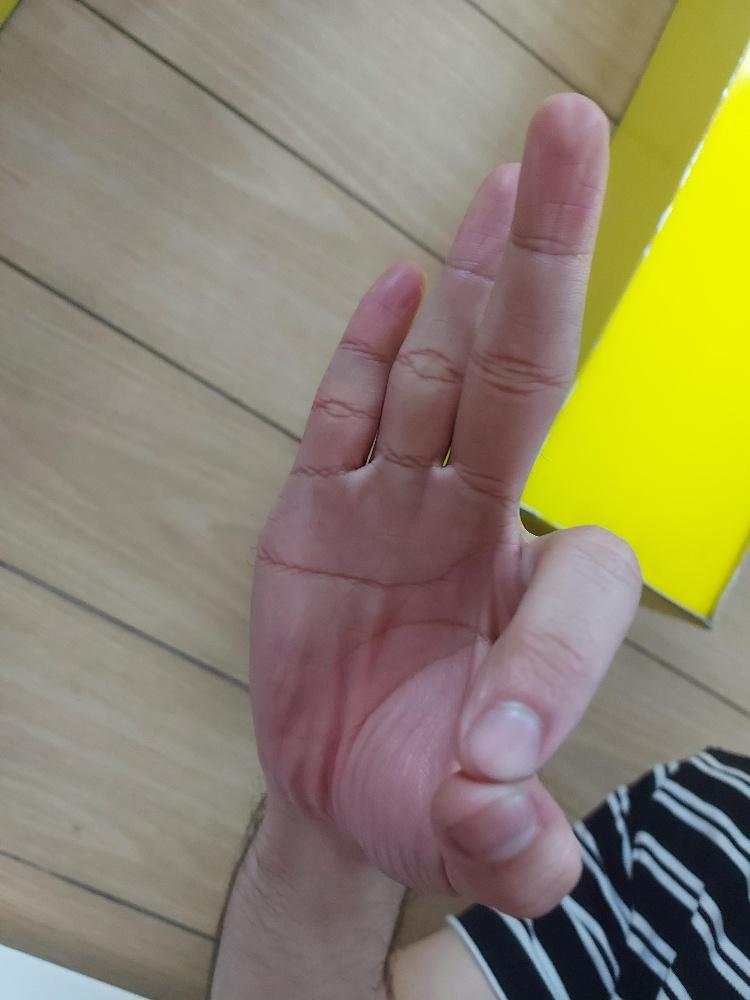f: (243, 85, 648, 924)
